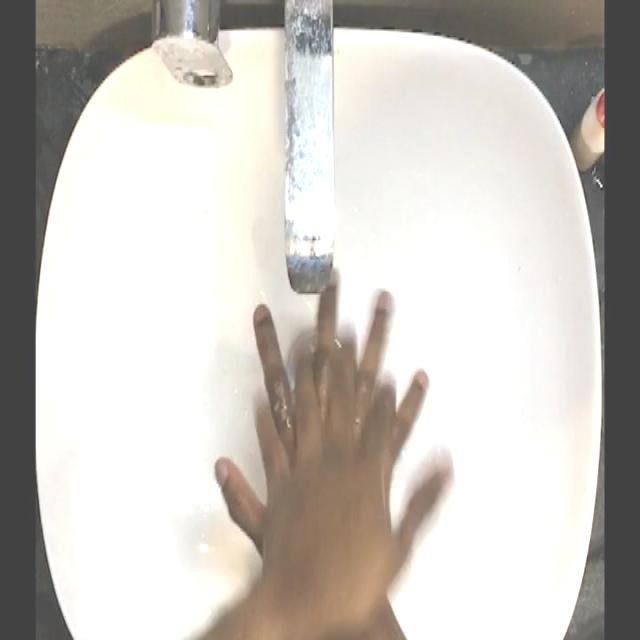step_2: (219, 260, 442, 575)
